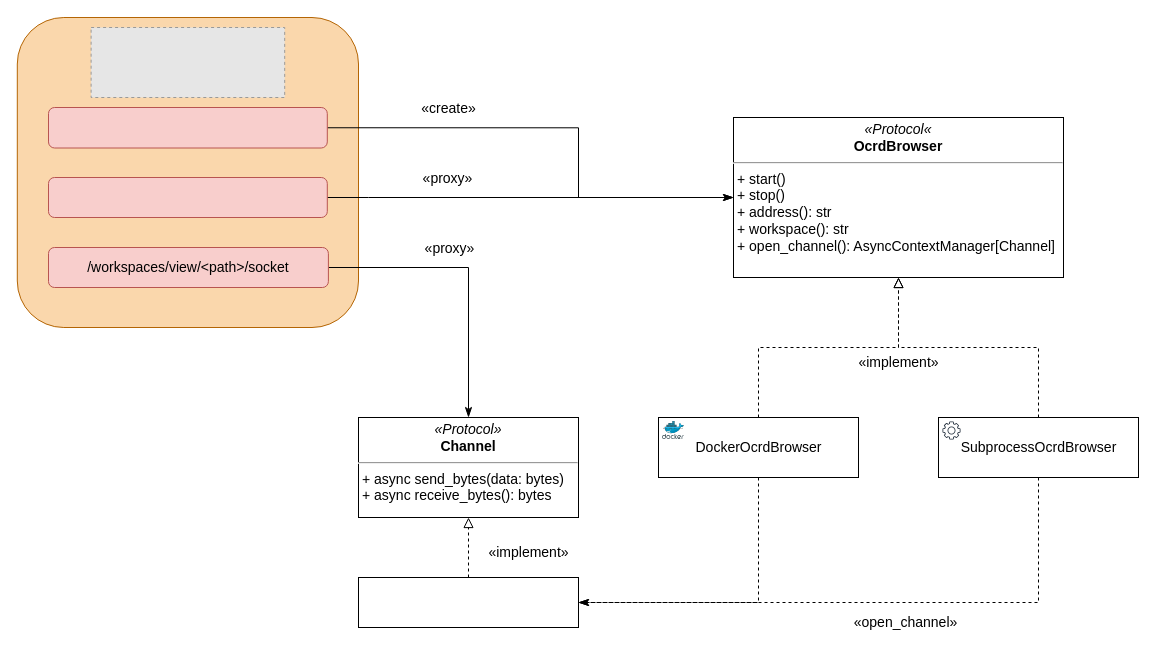
Some shapes in this 1157 by 655 pixel diagram are drawn without their labels. Grey dashed boxes stand in for pictures. The centre of each missing label's shape, as x and y in pixels:
/workspaces/open/<path>: [187,127]
/workspaces/view/<path>: [187,197]
WebSocketChannel: [468,602]
